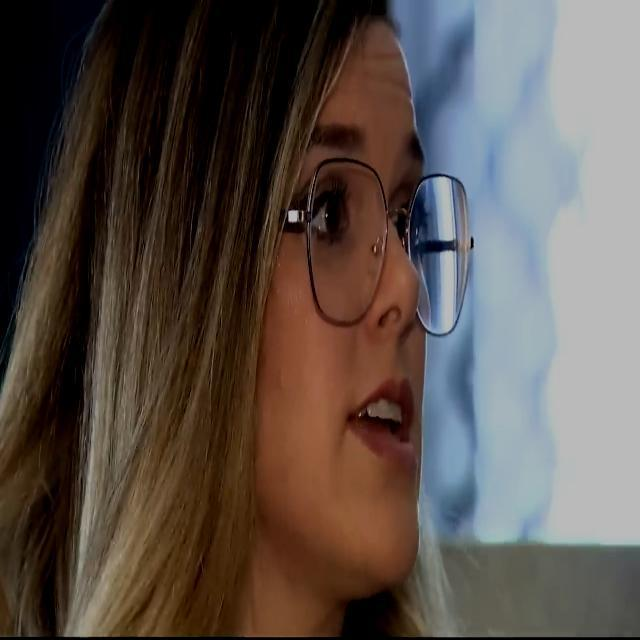non-fight: (95, 0, 533, 590)
